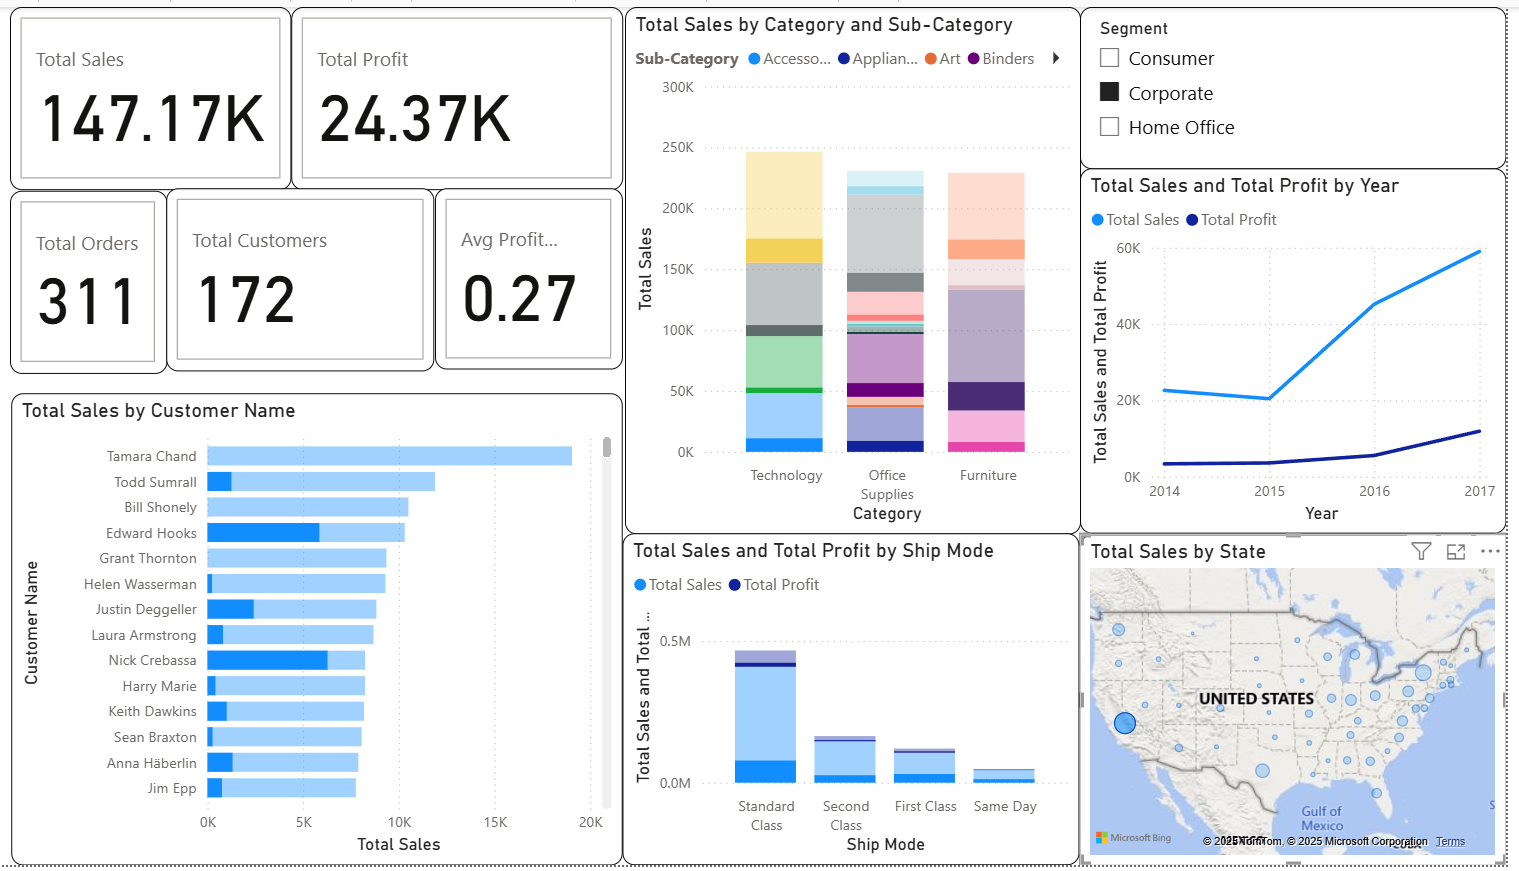

The dashboard page shown, as its layout file describes it:
{"tool":"powerbi","page":{"name":"P1 - Overview","canvas":[1280,720],"ordinal":0},"visuals":[{"type":"cardVisual","fields":{"Data":["superstore_clean.Total Sales"]},"box":[25.3,0,236,153.4],"z":0},{"type":"cardVisual","fields":{"Data":["superstore_clean.Total Profit"]},"box":[261.3,0,278.2,153.4],"z":1000},{"type":"cardVisual","fields":{"Data":["superstore_clean.Total Orders"]},"box":[24.7,153.7,131.7,153.7],"z":2000},{"type":"cardVisual","fields":{"Data":["superstore_clean.Total Customers"]},"box":[156.4,152.3,225,153.7],"z":3000},{"type":"cardVisual","fields":{"Data":["superstore_clean.Avg Profit Margin"]},"box":[381.5,152.3,157.8,152.3],"z":4000},{"type":"lineChart","fields":{"Y":["superstore_clean.Total Sales","superstore_clean.Total Profit"],"Category":["superstore_clean.Order Date.Variation.Date Hierarchy.Year","superstore_clean.Order Date.Variation.Date Hierarchy.Quarter","superstore_clean.Order Date.Variation.Date Hierarchy.Month","superstore_clean.Order Date.Variation.Date Hierarchy.Day"]},"box":[922.6,135.7,357.3,306.4],"z":5000},{"type":"columnChart","fields":{"Category":["superstore_clean.Category"],"Y":["superstore_clean.Total Sales"],"Series":["superstore_clean.Sub-Category"]},"box":[540.5,0,382.2,442.1],"z":6000},{"type":"map","fields":{"Category":["superstore_clean.State"],"Size":["superstore_clean.Total Sales"]},"box":[922.6,442.1,357.3,278.1],"z":7000},{"type":"clusteredBarChart","fields":{"Category":["superstore_clean.Customer Name"],"Y":["superstore_clean.Total Sales"]},"box":[25.7,324.3,512.9,395.7],"z":8000},{"type":"columnChart","fields":{"Category":["superstore_clean.Ship Mode"],"Y":["superstore_clean.Total Sales","superstore_clean.Total Profit"]},"box":[538.3,441.7,383.3,278.3],"z":9000},{"type":"slicer","fields":{"Values":["superstore_clean.Segment"]},"box":[922.6,0,357.3,135.7],"z":10000}]}

Visuals, with their boxes in screenshot pixels (x1, y1, x2, y2), scaled from the page's 1280x720 canvas onto the 1519x871 screenshot:
cardVisual - superstore_clean.Total Sales: bbox(30, 0, 310, 186)
cardVisual - superstore_clean.Total Profit: bbox(310, 0, 640, 186)
cardVisual - superstore_clean.Total Orders: bbox(29, 186, 186, 372)
cardVisual - superstore_clean.Total Customers: bbox(186, 184, 453, 370)
cardVisual - superstore_clean.Avg Profit Margin: bbox(453, 184, 640, 368)
lineChart - superstore_clean.Total Sales x superstore_clean.Total Profit: bbox(1095, 164, 1518, 535)
columnChart - superstore_clean.Category x superstore_clean.Total Sales: bbox(641, 0, 1095, 535)
map - superstore_clean.State x superstore_clean.Total Sales: bbox(1095, 535, 1518, 870)
clusteredBarChart - superstore_clean.Customer Name x superstore_clean.Total Sales: bbox(30, 392, 639, 870)
columnChart - superstore_clean.Ship Mode x superstore_clean.Total Sales: bbox(639, 534, 1094, 870)
slicer - superstore_clean.Segment: bbox(1095, 0, 1518, 164)
